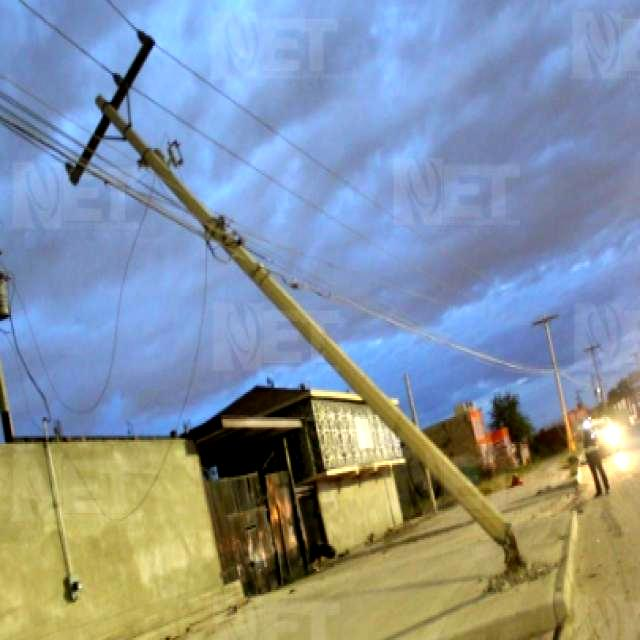Broken Pole: (56, 22, 528, 594)
